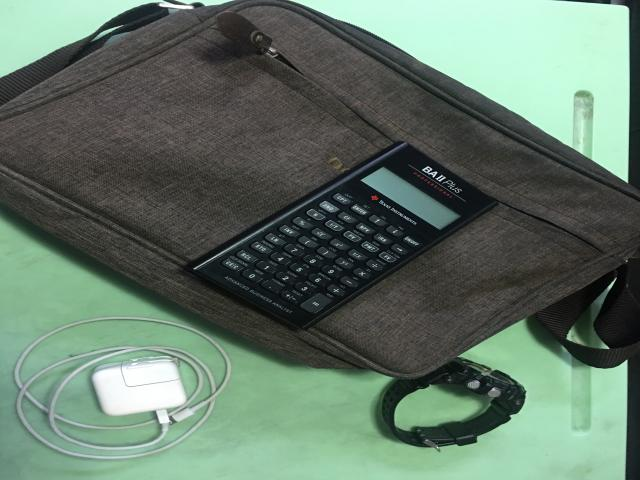Watch: (382, 357, 525, 449)
wire: (12, 316, 232, 459)
